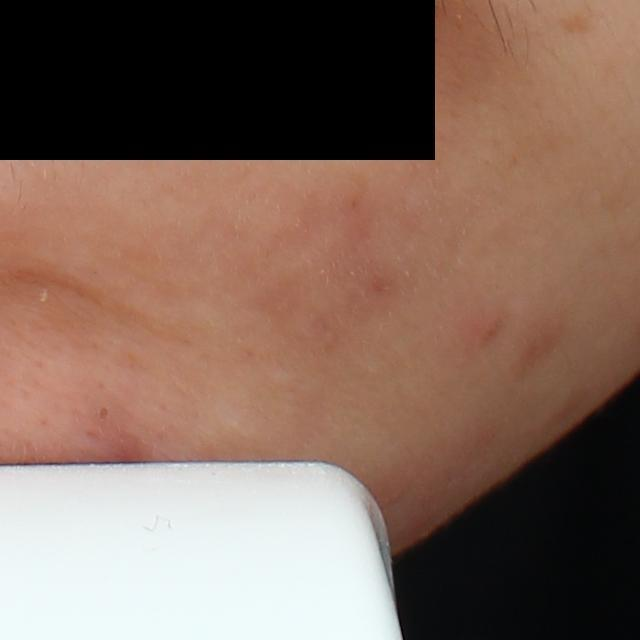comedo: (95, 404, 112, 424)
papule: (474, 312, 504, 343)
